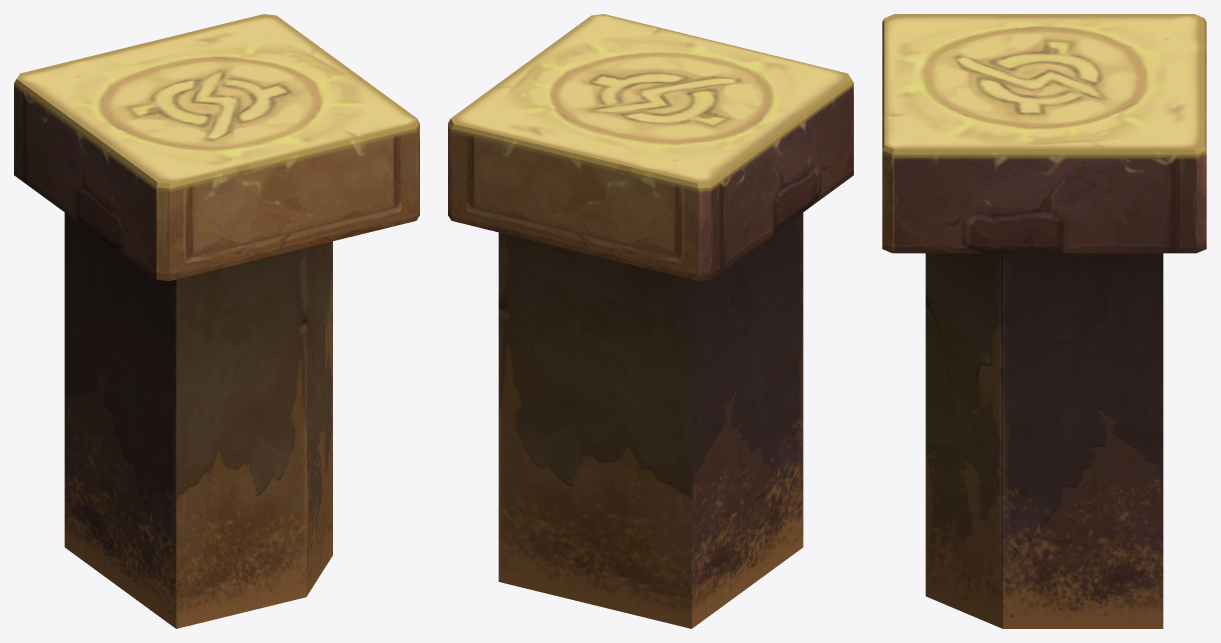
The model's file is ZSZR_DG_GeZi-TY_001.FBX.
The picture shows the model from 3 angles, left to right: view 1: azimuth 30°, elevation 25°; view 2: azimuth 150°, elevation 25°; view 3: azimuth 270°, elevation 25°; orthographic projection. The views are drawn at different scales.
Parts seen in each view (by area): view 1: ZSZR_DG_GeZi-TY_001; view 2: ZSZR_DG_GeZi-TY_001; view 3: ZSZR_DG_GeZi-TY_001.
Part boxes in pixels (x1,y1,x2,y2): ZSZR_DG_GeZi-TY_001: [14, 14, 419, 628]; ZSZR_DG_GeZi-TY_001: [448, 14, 853, 628]; ZSZR_DG_GeZi-TY_001: [882, 14, 1206, 628].
Bounding box in the file's own units: 94.08 × 159 × 94.08.
